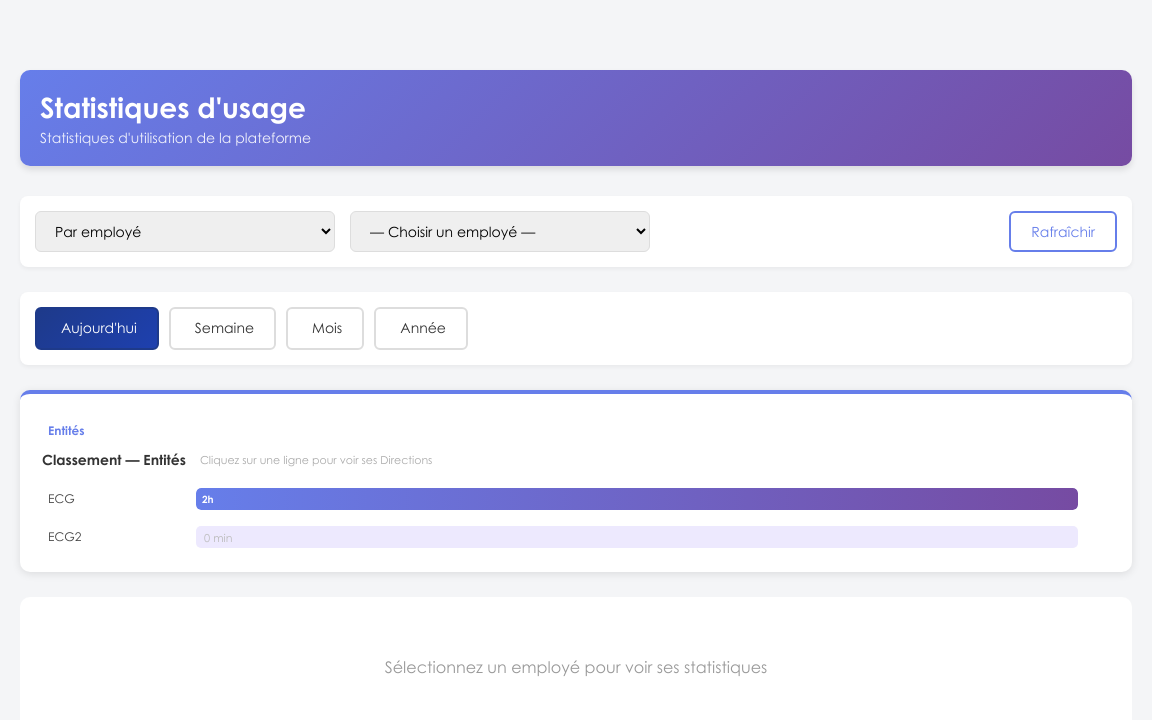
UsageStats — roll-up histogram › vue org — Par entité affiche les stats agrégées depuis le classement
This screenshot has width=1152, height=720.
Expected: the text "ECG" is shown, [48, 491, 75, 506]
Switch to Par entité
Select "Par entité" in the 1st dropdown with class "user-select" at [185, 232], box [35, 211, 335, 252]
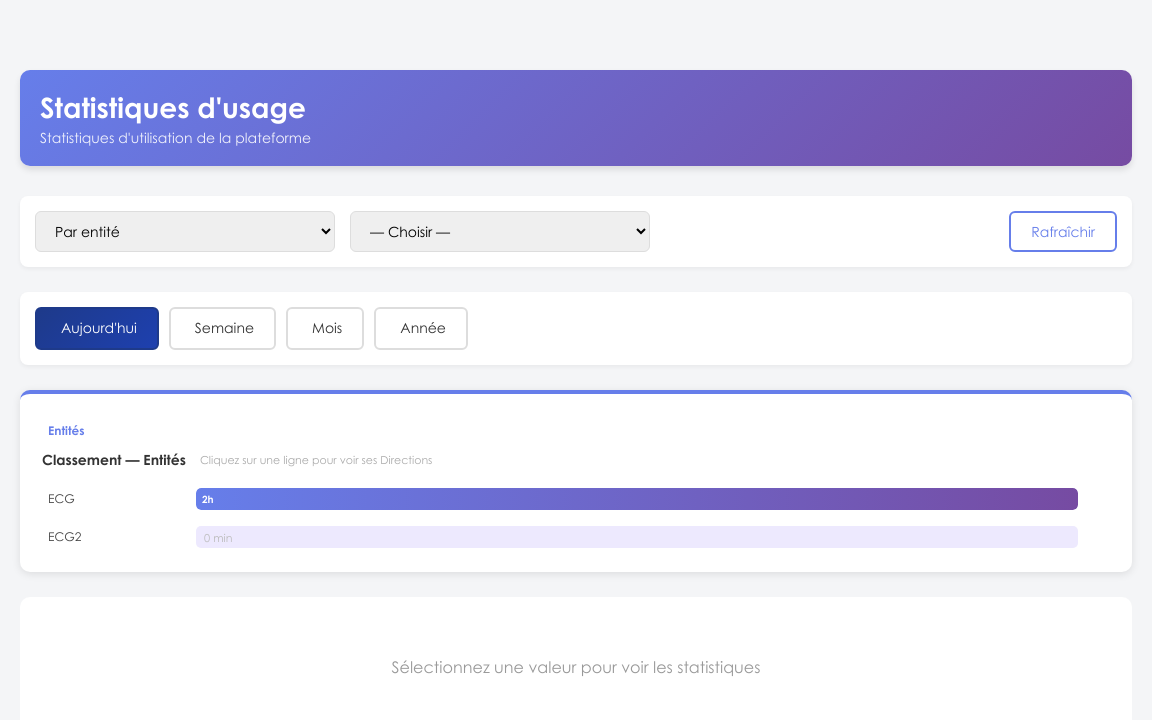
Select "ECG" in the 2nd dropdown with class "user-select" at [500, 232], box [350, 211, 650, 252]
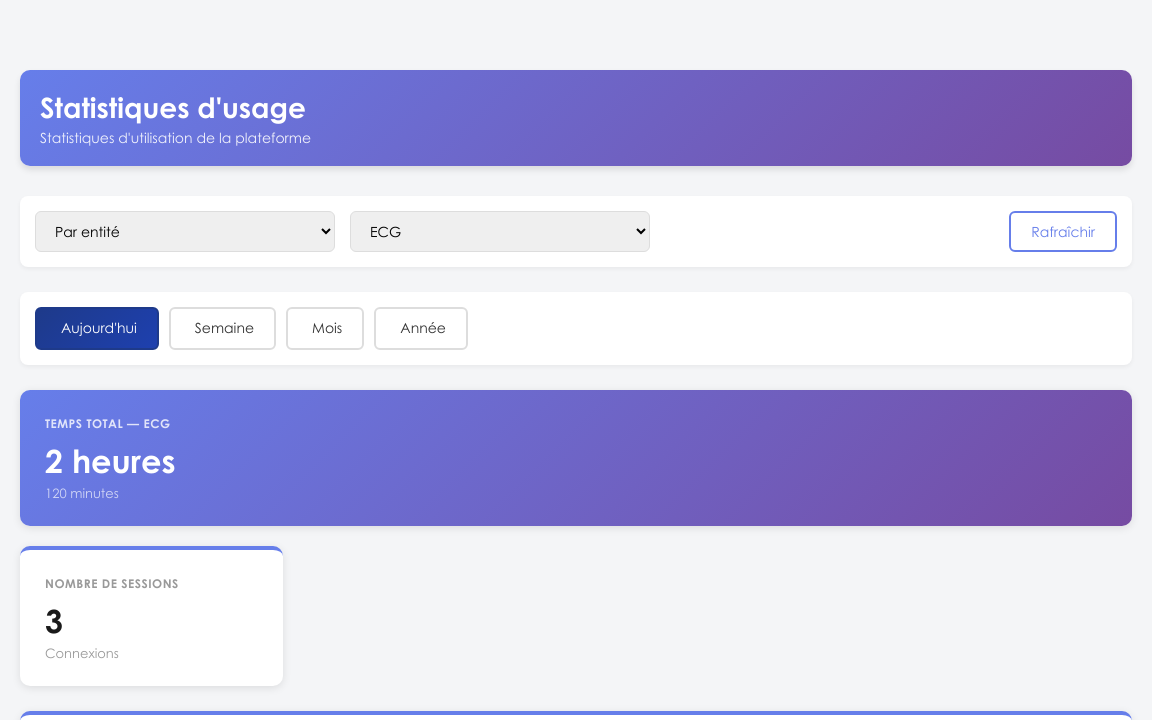
Now the text "120 minutes" is shown, box [45, 485, 119, 501]
Now the text "Nombre de Sessions" shows "3", box [45, 601, 63, 640]
